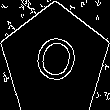O_S: (28, 30, 82, 92)
